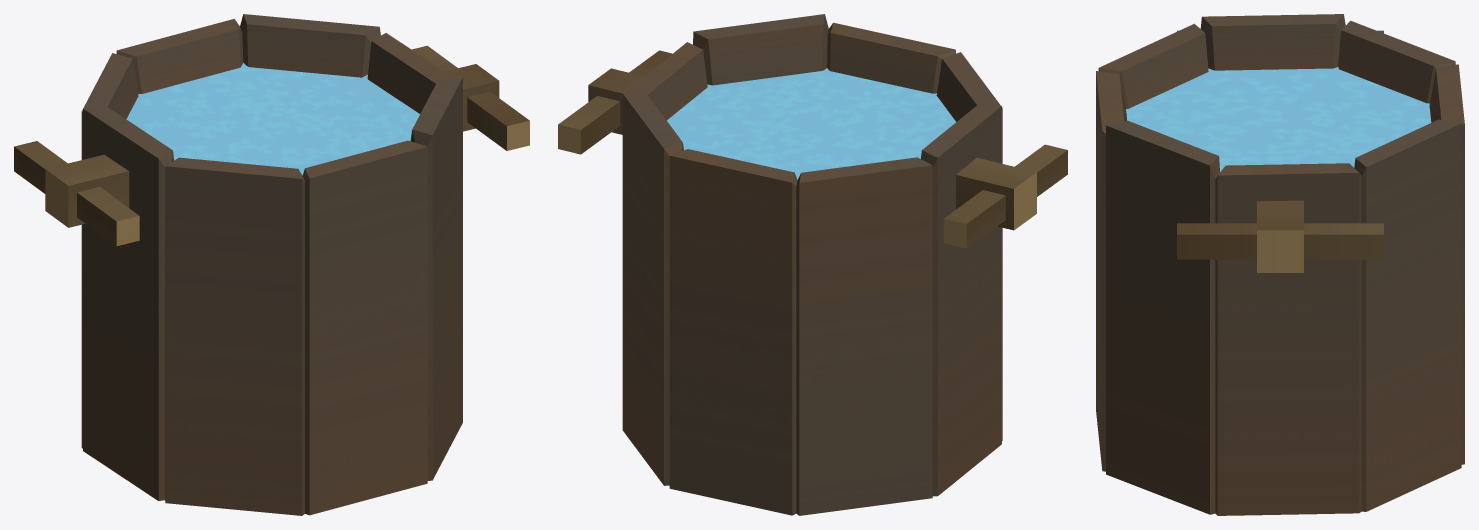
Rendered from Bucket_1B.fbx.
3 renders of one model, left to right at view 1: azimuth 30°, elevation 25°; view 2: azimuth 150°, elevation 25°; view 3: azimuth 270°, elevation 25°, orthographic. The views are drawn at different scales.
Parts seen in each view (by area): view 1: polySurface9707; view 2: polySurface9707; view 3: polySurface9707.
Part boxes in pixels (x1,y1,x2,y2): polySurface9707: (14, 14, 529, 515); polySurface9707: (558, 14, 1067, 515); polySurface9707: (1096, 14, 1464, 515).
Bounding box in the file's own units: 134 × 103 × 98.56.
